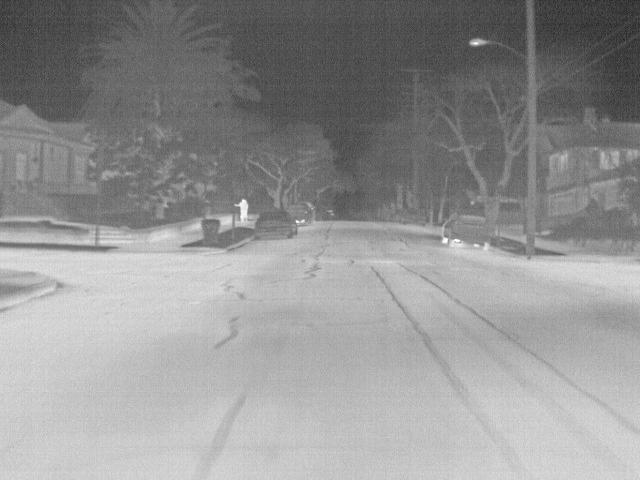car: (442, 213, 490, 250), (253, 210, 298, 241), (288, 203, 316, 225), (404, 207, 426, 226)
person: (239, 197, 251, 221)
